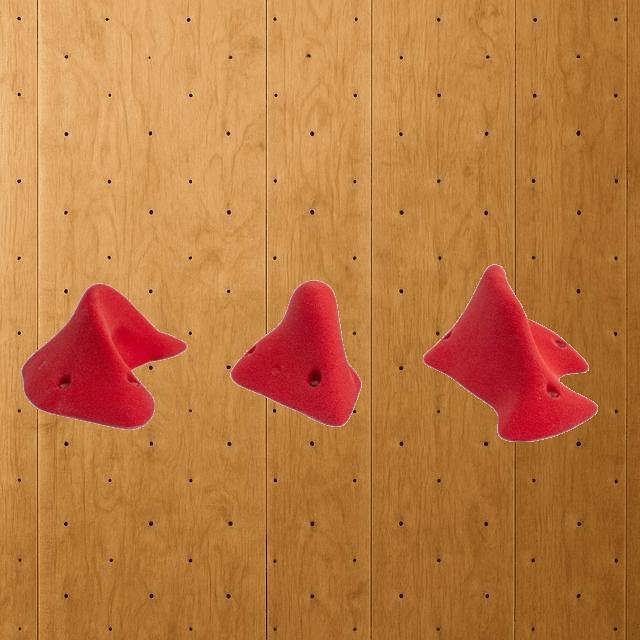Pinch: (422, 262, 598, 442), (21, 282, 188, 430), (229, 279, 361, 427)
